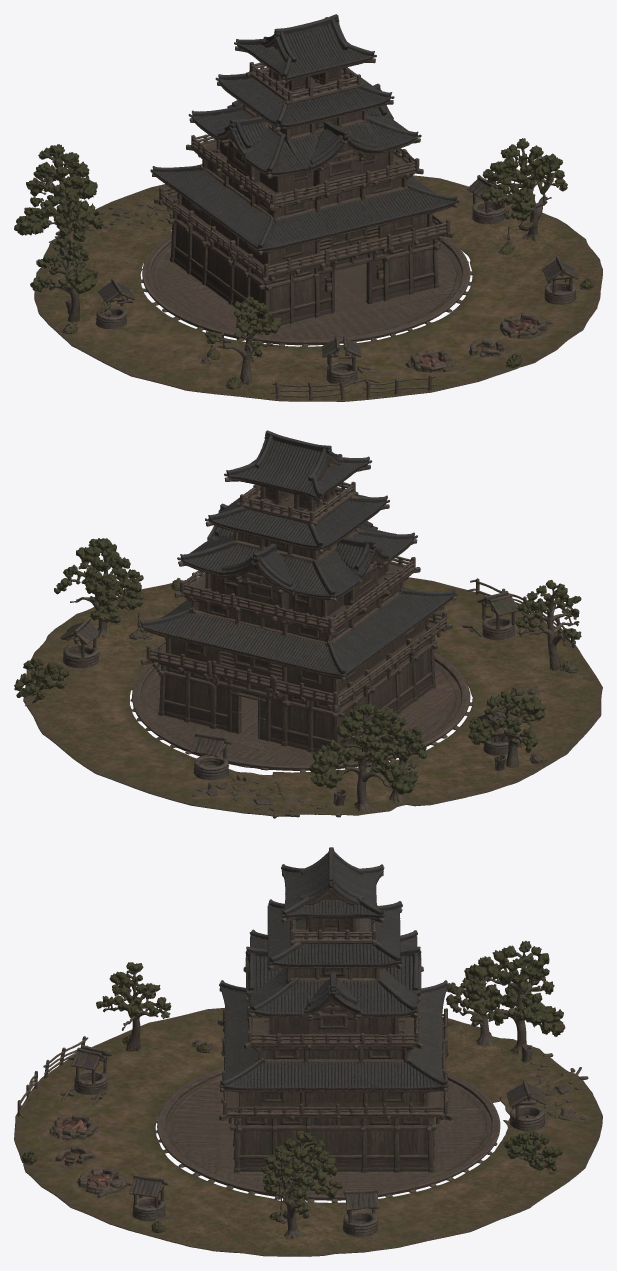
File: keep_large.glb
The picture shows the model from 3 angles, top to bottom: view 1: azimuth 30°, elevation 25°; view 2: azimuth 150°, elevation 25°; view 3: azimuth 270°, elevation 25°; orthographic projection. The views are drawn at different scales.
Size of the model in its own units: 1.89 by 0.9262 by 1.84.
Materials: 1 (1 with a texture image).
